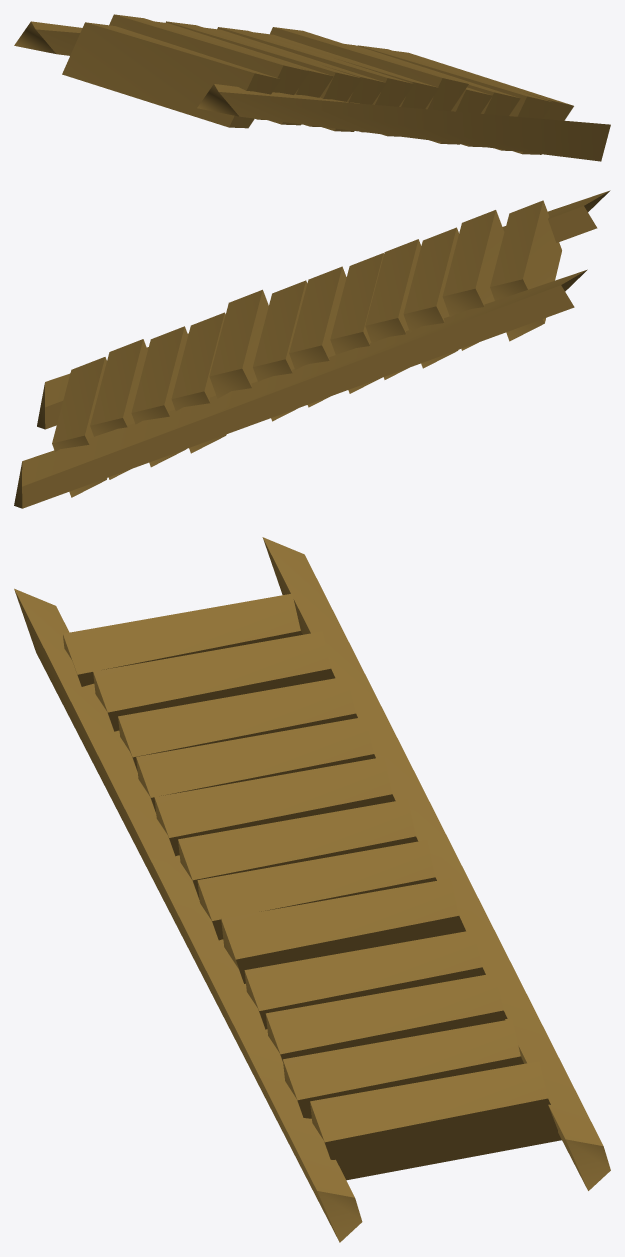
Rendered from stair bridge.fbx.
The picture shows the model from 3 angles, top to bottom: view 1: azimuth 30°, elevation 25°; view 2: azimuth 150°, elevation 25°; view 3: azimuth 270°, elevation 25°; orthographic projection. The views are drawn at different scales.
Visible parts, largest first — view 1: rice280; view 2: rice280; view 3: rice280.
Boxes of the visible parts, box(x1,y1,x2,y2) form: rice280: box(14, 14, 610, 161); rice280: box(14, 190, 610, 508); rice280: box(14, 537, 610, 1242).
Bounding box in the file's own units: 1.06 × 0.5084 × 0.7664.
1 material, 1 textured.
